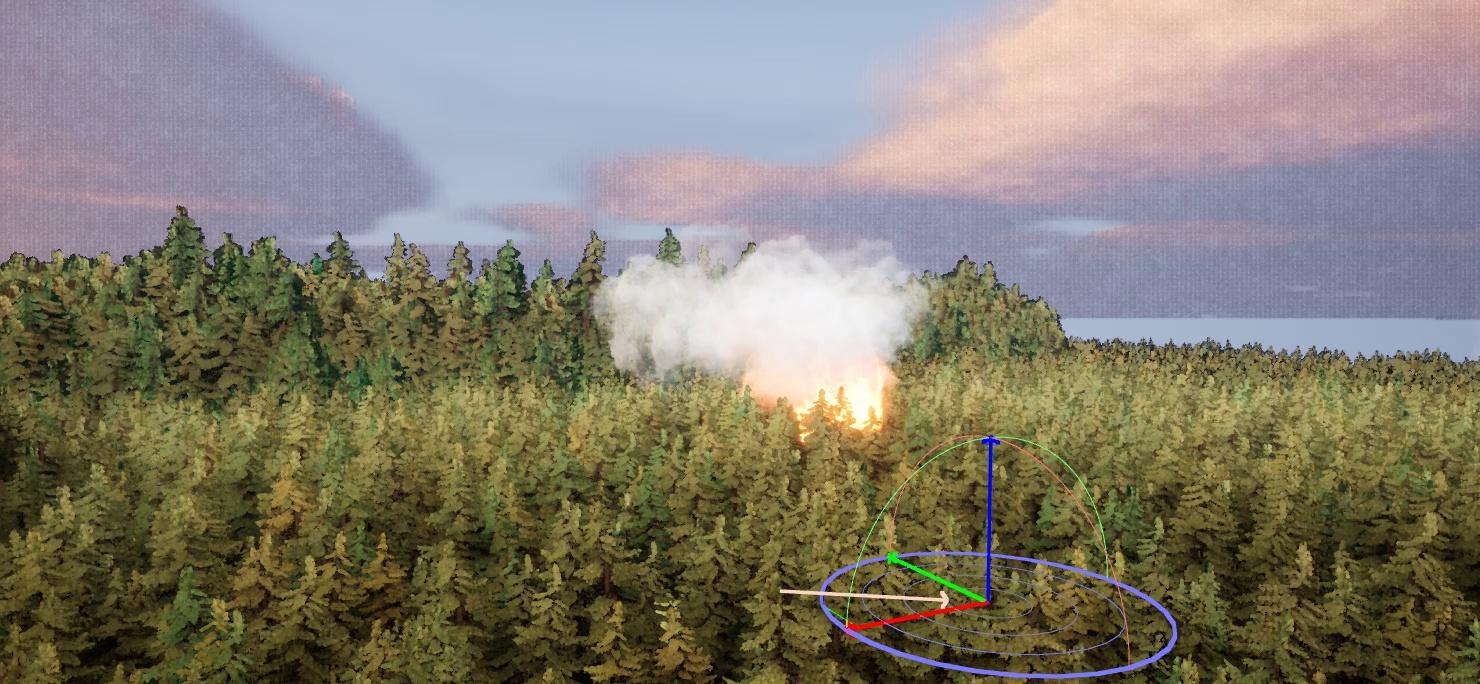fire: (775, 373, 895, 445)
smoke: (600, 234, 921, 386)
